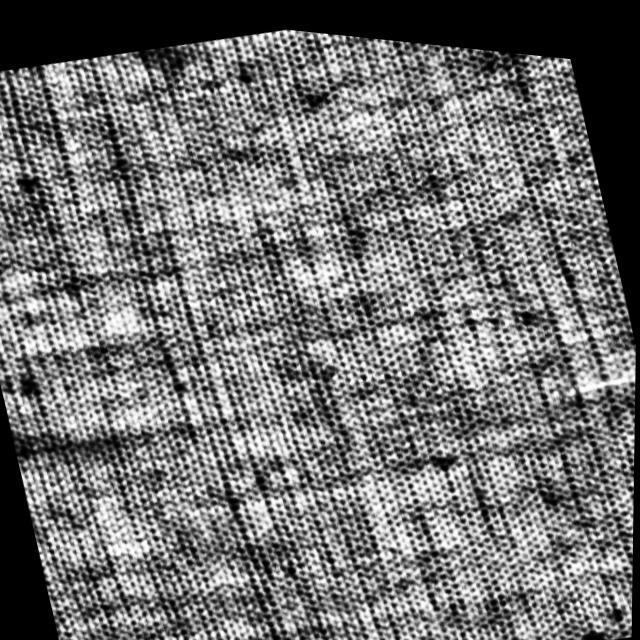Hole: (547, 339, 637, 394)
